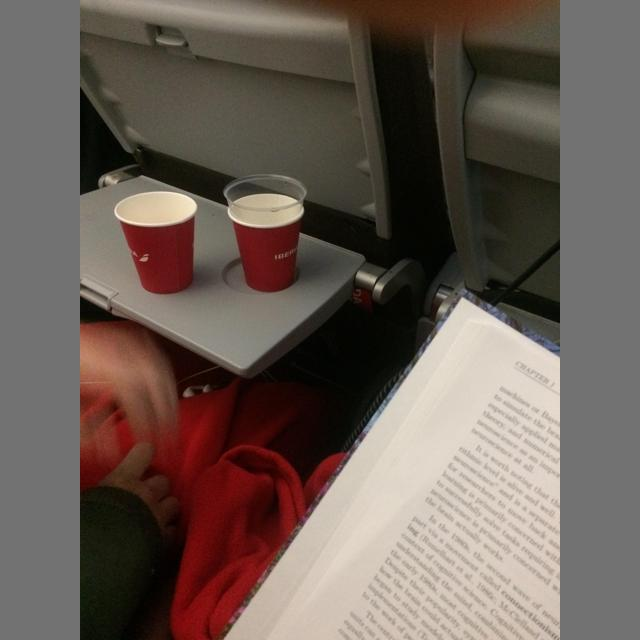litter: (114, 192, 198, 294), (228, 194, 305, 292), (224, 174, 307, 225)
